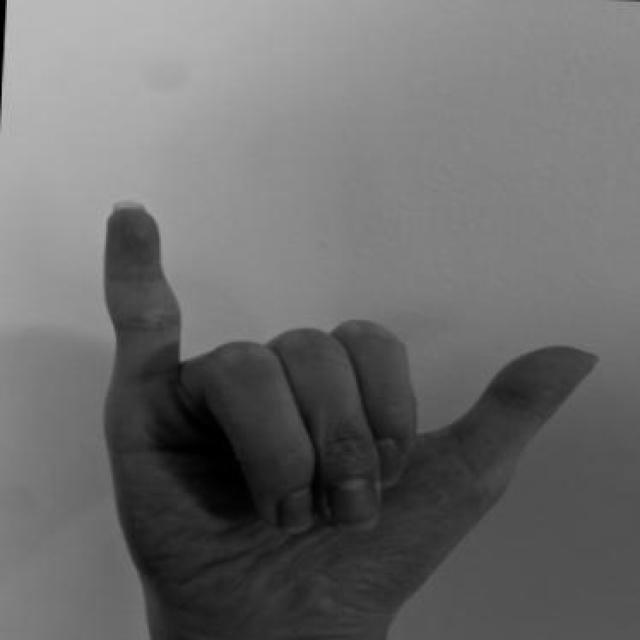Y: (80, 194, 618, 638)
